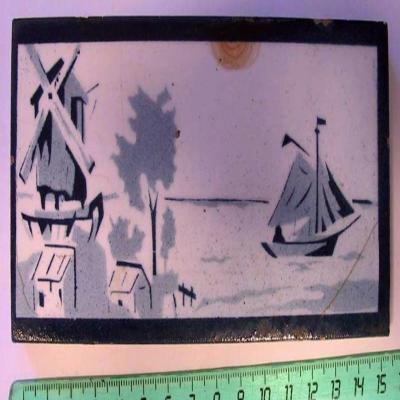other: (11, 17, 390, 345)
